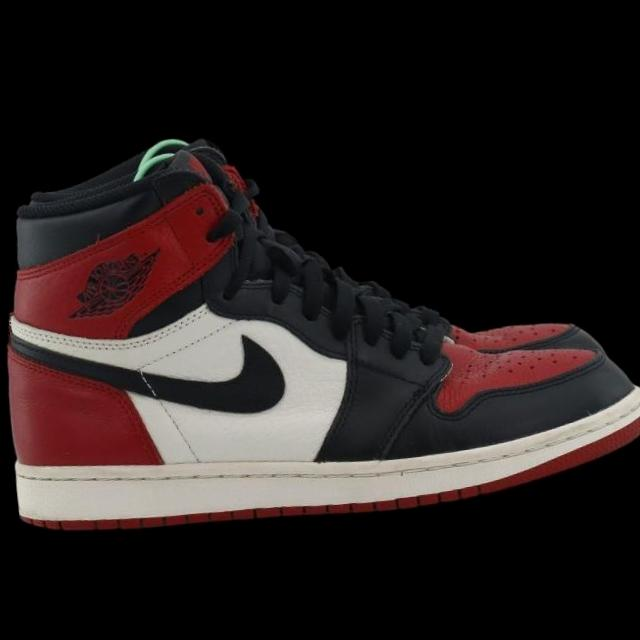nike_original_jordan: (0, 97, 640, 551), (21, 100, 604, 416)
